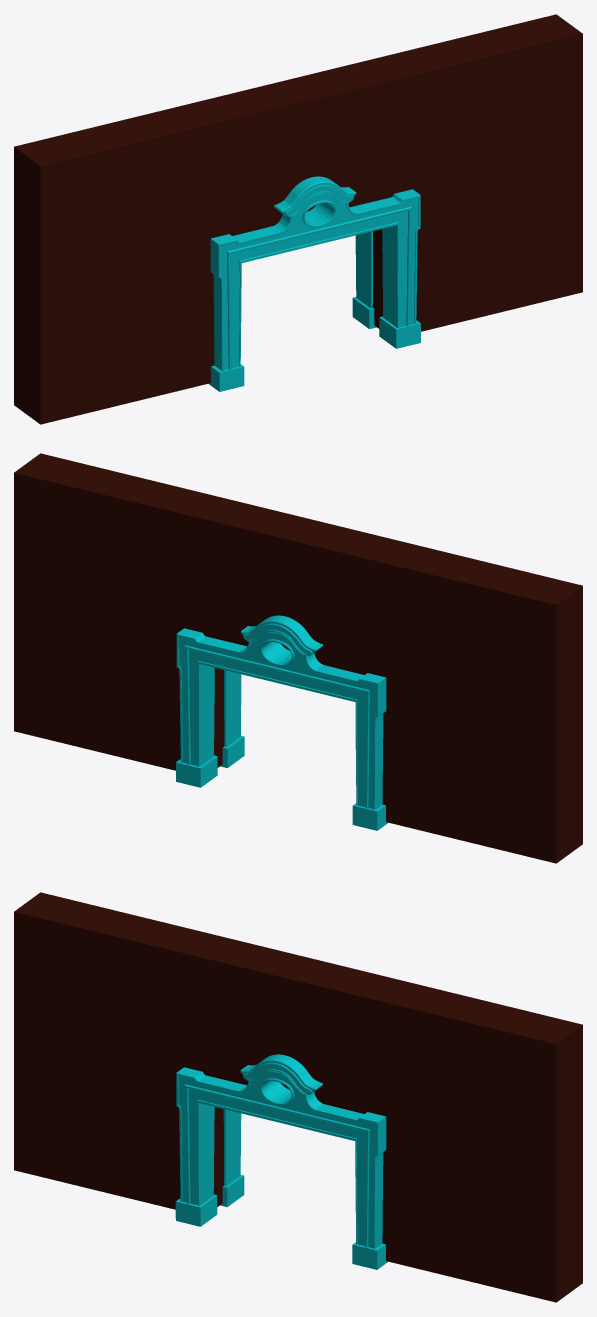
Rendered from main wall&gate.fbx.
3 renders of one model, top to bottom at view 1: azimuth 30°, elevation 25°; view 2: azimuth 150°, elevation 25°; view 3: azimuth 330°, elevation 25°, orthographic.
Visible parts, largest first — view 1: main wall, door main inside.001, door main inside; view 2: main wall, door main inside, door main inside.001; view 3: main wall, door main inside.001, door main inside.
Boxes of the visible parts, <box> form: main wall: <box>14,14,582,424</box>; door main inside.001: <box>208,176,420,391</box>; door main inside: <box>352,231,376,329</box>; main wall: <box>14,453,582,863</box>; door main inside: <box>176,615,388,830</box>; door main inside.001: <box>220,670,244,767</box>; main wall: <box>14,892,582,1302</box>; door main inside.001: <box>175,1054,387,1269</box>; door main inside: <box>220,1109,244,1207</box>.
Bounding box in the file's own units: 11363 × 5229 × 1586.
